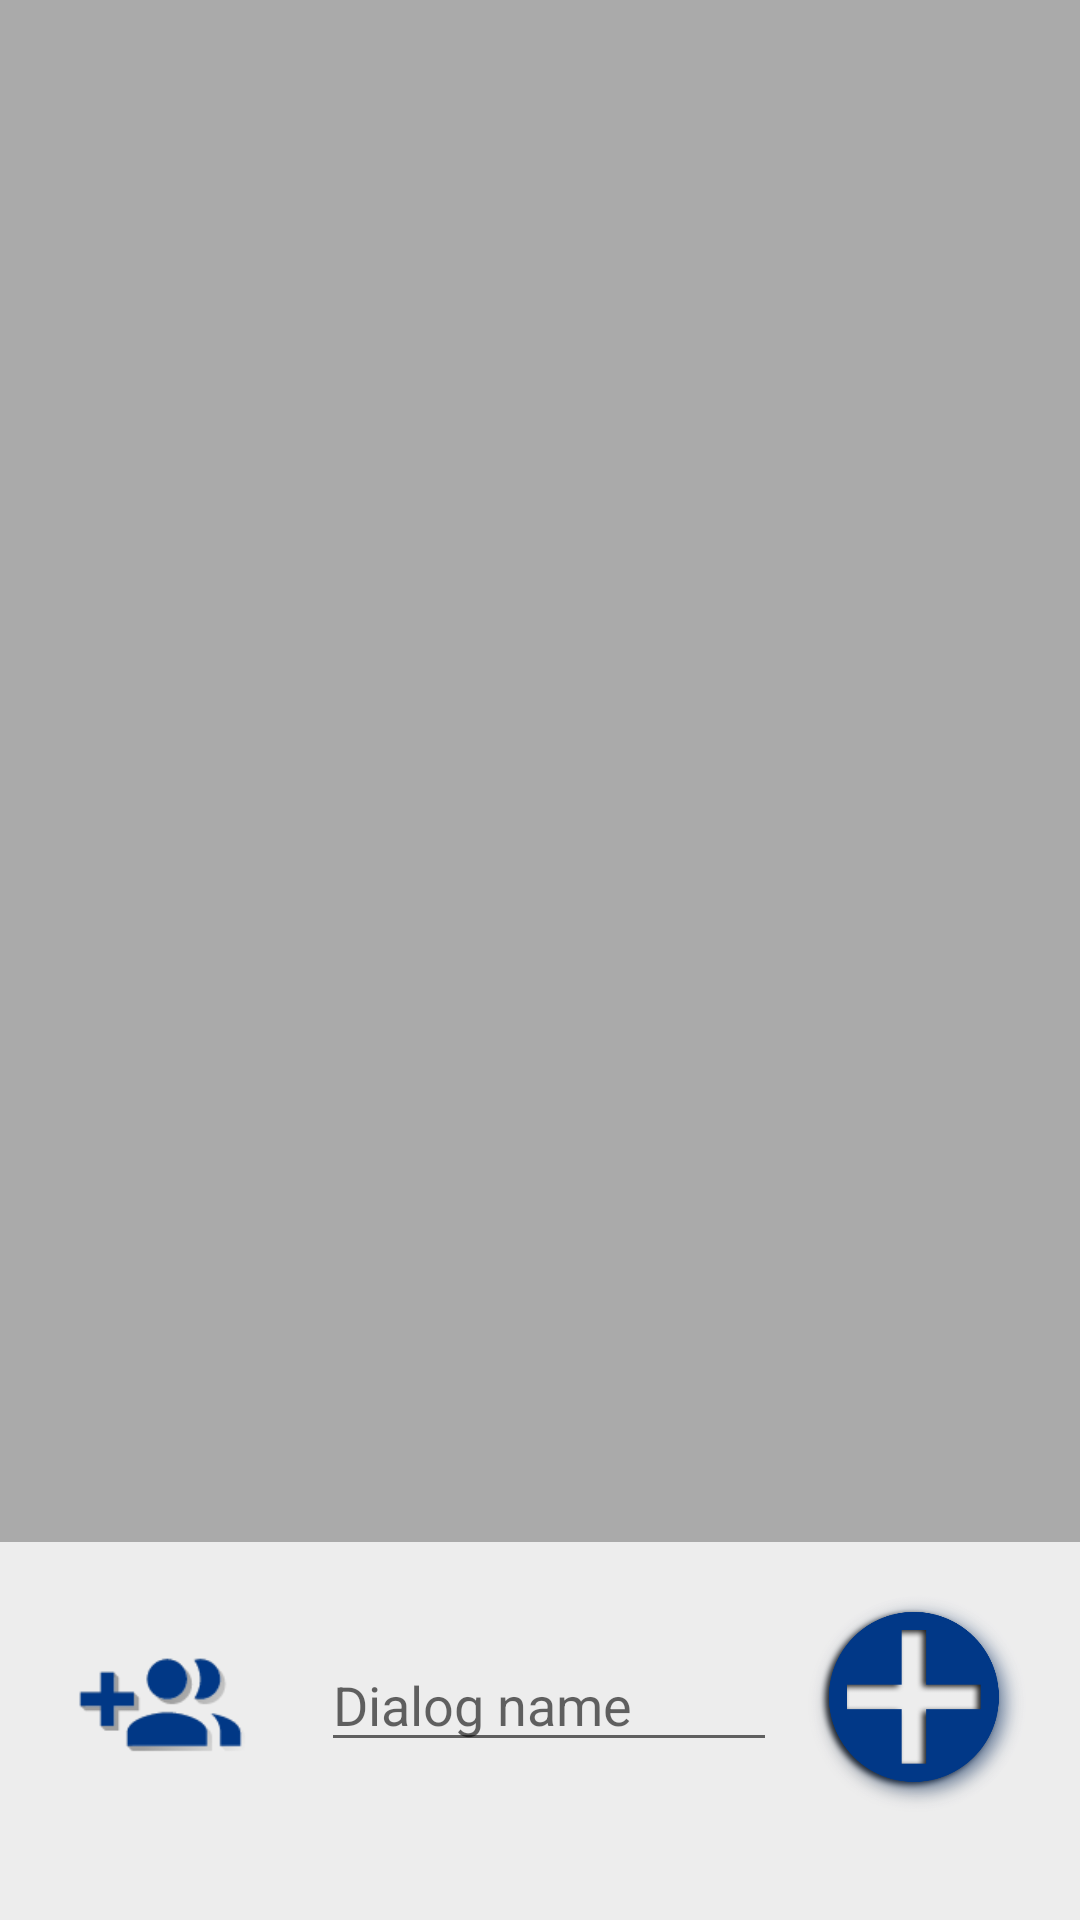

Where to tap for icons on this 1080*1920 app screen, as [x,y]:
add user: [160,1704]
